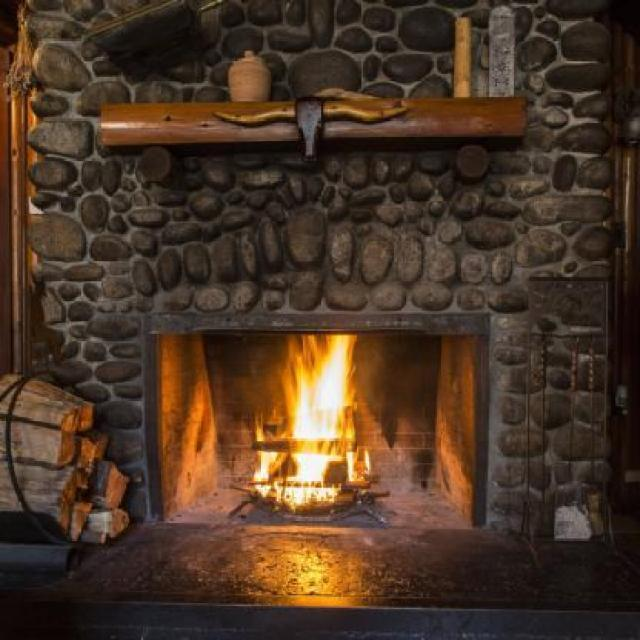Fire: (252, 328, 371, 497)
